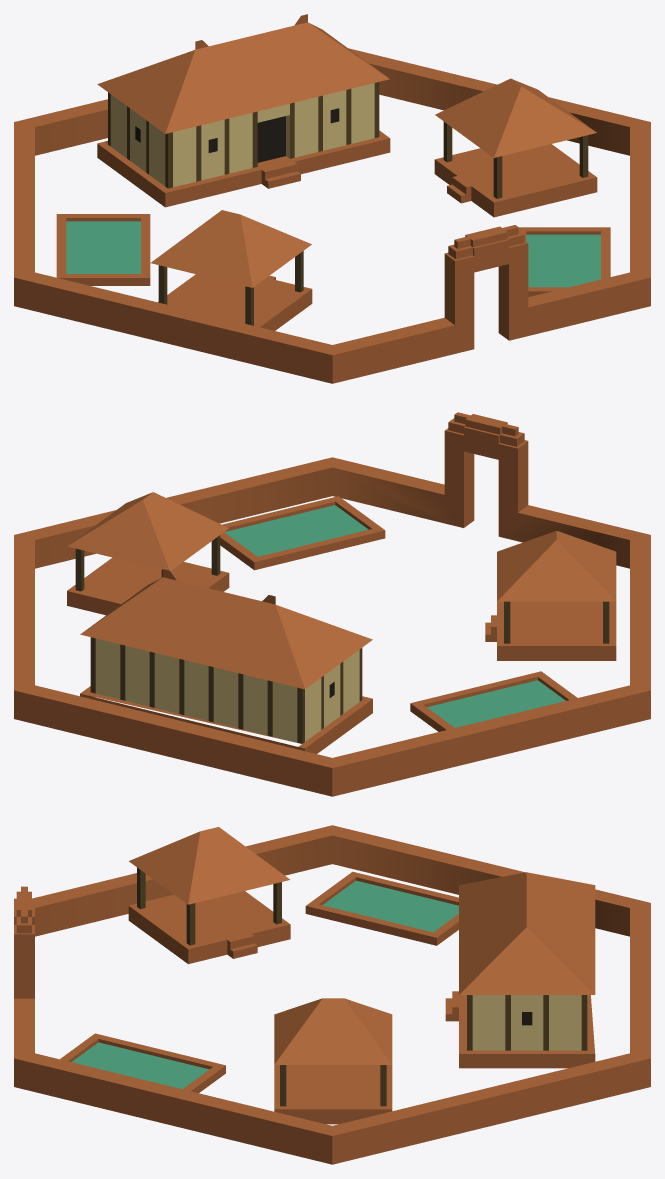
Rendered from MJ_Building_House_T3_v2.fbx.
3 renders of one model, top to bottom at view 1: azimuth 30°, elevation 25°; view 2: azimuth 150°, elevation 25°; view 3: azimuth 270°, elevation 25°, orthographic.
Visible parts, largest first — view 1: Model, Group1, Group2, Group3; view 2: Model, Group1, Group3, Group2; view 3: Model, Group1, Group3, Group2.
Part boxes in pixels (<box>): Model: <box>14,48,650,383</box>; Group1: <box>97,14,390,207</box>; Group2: <box>434,78,597,217</box>; Group3: <box>150,210,312,330</box>; Model: <box>14,412,650,796</box>; Group1: <box>80,569,372,753</box>; Group3: <box>485,530,616,660</box>; Group2: <box>67,492,229,615</box>; Model: <box>14,825,650,1164</box>; Group1: <box>445,872,595,1068</box>; Group3: <box>128,827,290,964</box>; Group2: <box>274,998,392,1124</box>.
Bounding box in the file's own units: 5.82 × 1.1 × 5.04.
